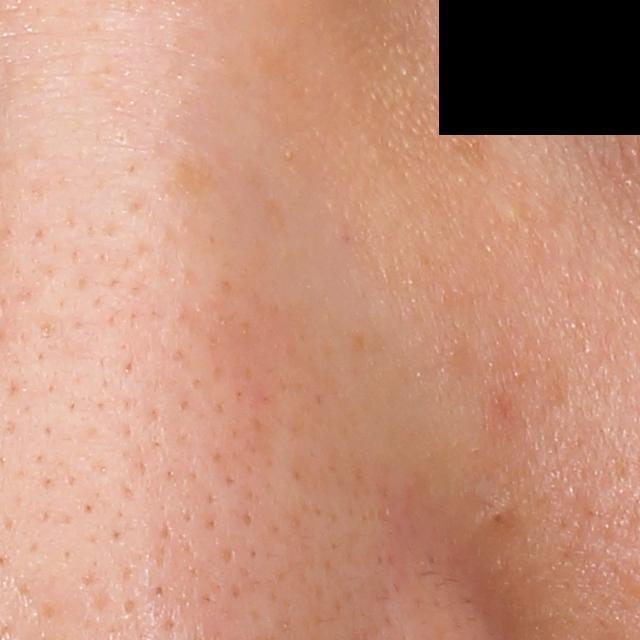comedo: (479, 505, 517, 531)
melasma: (171, 154, 216, 202), (453, 120, 495, 168)
